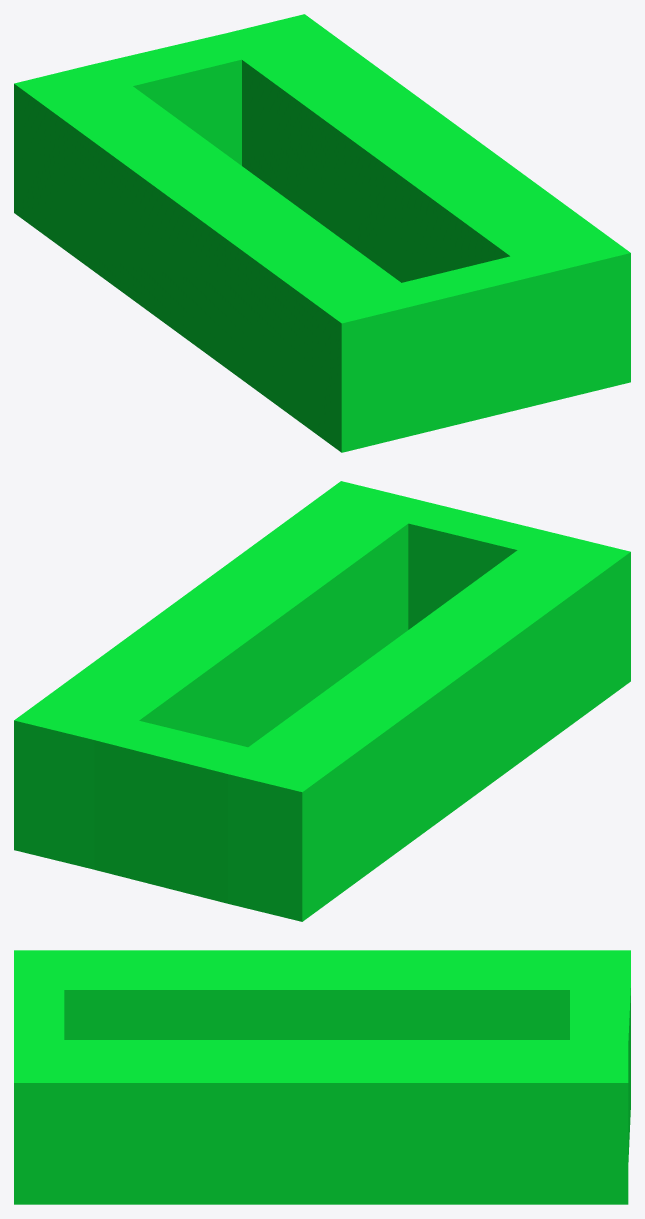
The model's file is LetterO.obj.
3 views of the same model, one above another, from view 1: azimuth 30°, elevation 25°; view 2: azimuth 150°, elevation 25°; view 3: azimuth 270°, elevation 25° (orthographic). The views are drawn at different scales.
Visible parts, largest first — view 1: LetterO; view 2: LetterO; view 3: LetterO.
Boxes of the visible parts, box(x1,y1,x2,y2) form: LetterO: box(14, 14, 630, 452); LetterO: box(14, 481, 630, 921); LetterO: box(14, 950, 630, 1204).
Bounding box in the file's own units: 2.34 × 1 × 4.59.
